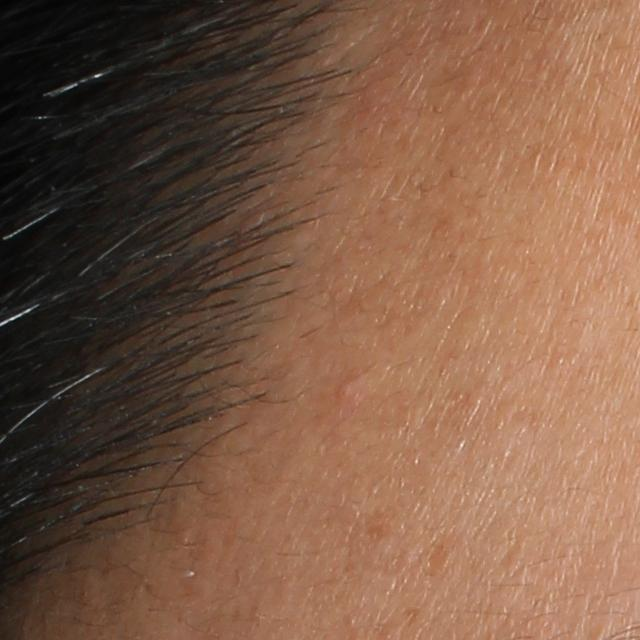papule: (336, 380, 355, 400)
